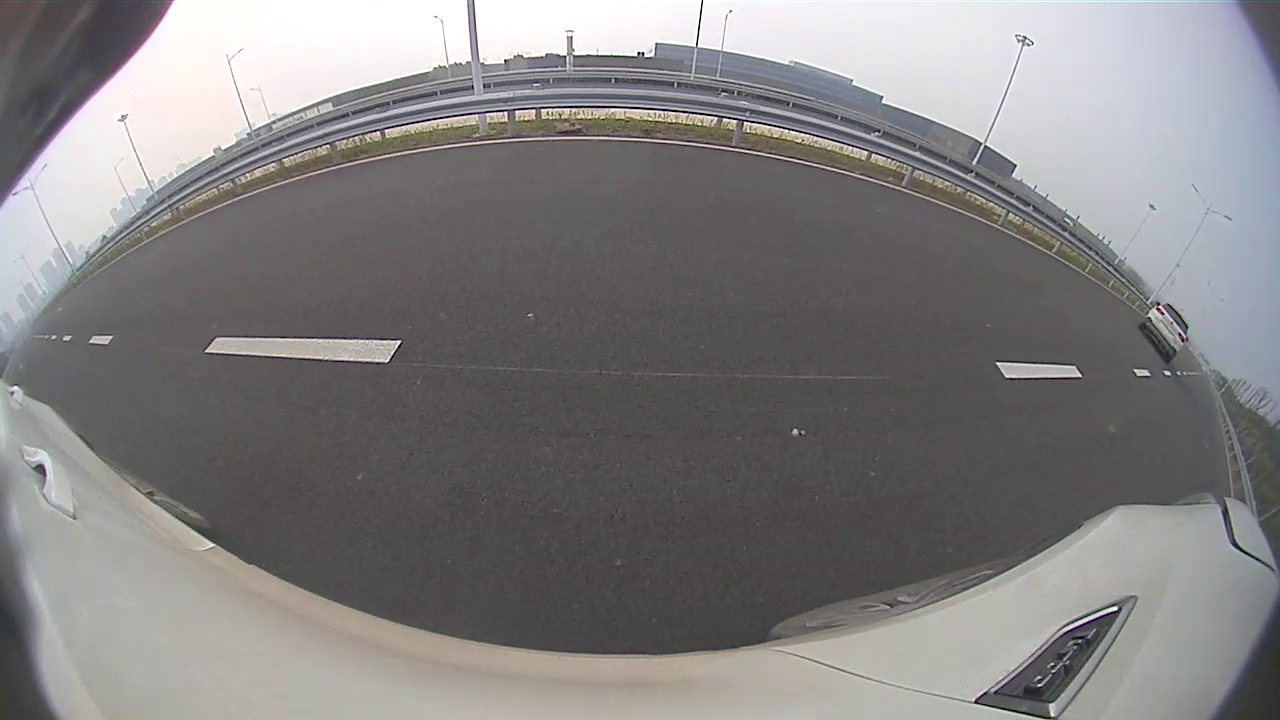car: (1140, 302, 1189, 363)
